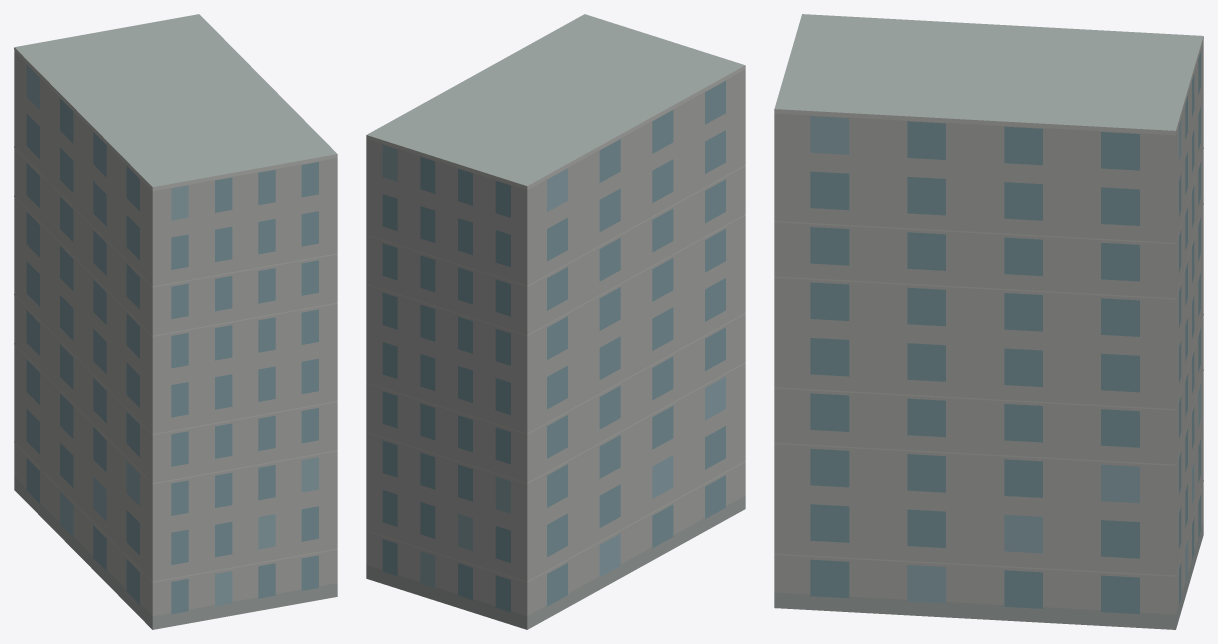
Rendered from residential-82290b70-95c5-4697-a0a5-a315f950e8d4.glb.
The picture shows the model from 3 angles, left to right: view 1: azimuth 30°, elevation 25°; view 2: azimuth 150°, elevation 25°; view 3: azimuth 270°, elevation 25°; orthographic projection. The views are drawn at different scales.
Visible parts, largest first — view 1: residential-82290b70-95c5-4697-a0a5-a315f950e8d4.tmp; view 2: residential-82290b70-95c5-4697-a0a5-a315f950e8d4.tmp; view 3: residential-82290b70-95c5-4697-a0a5-a315f950e8d4.tmp.
Part boxes in pixels (x1,y1,x2,y2): residential-82290b70-95c5-4697-a0a5-a315f950e8d4.tmp: (14,14,337,629); residential-82290b70-95c5-4697-a0a5-a315f950e8d4.tmp: (366,14,745,629); residential-82290b70-95c5-4697-a0a5-a315f950e8d4.tmp: (774,14,1203,629).
Size of the model in its own units: 13.82 by 27.45 by 21.42.
